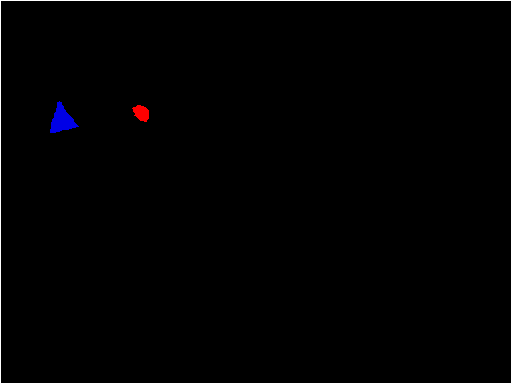chipped: (53, 104, 73, 132)
detached: (132, 106, 151, 120)
